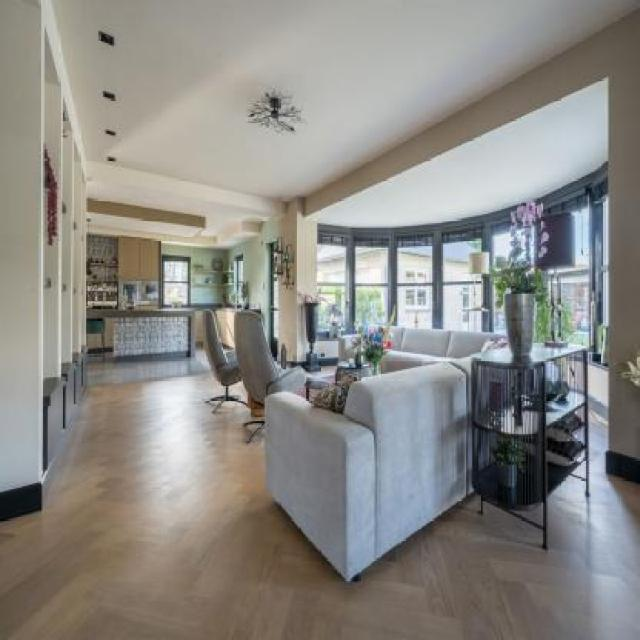floor: (0, 355, 640, 640)
